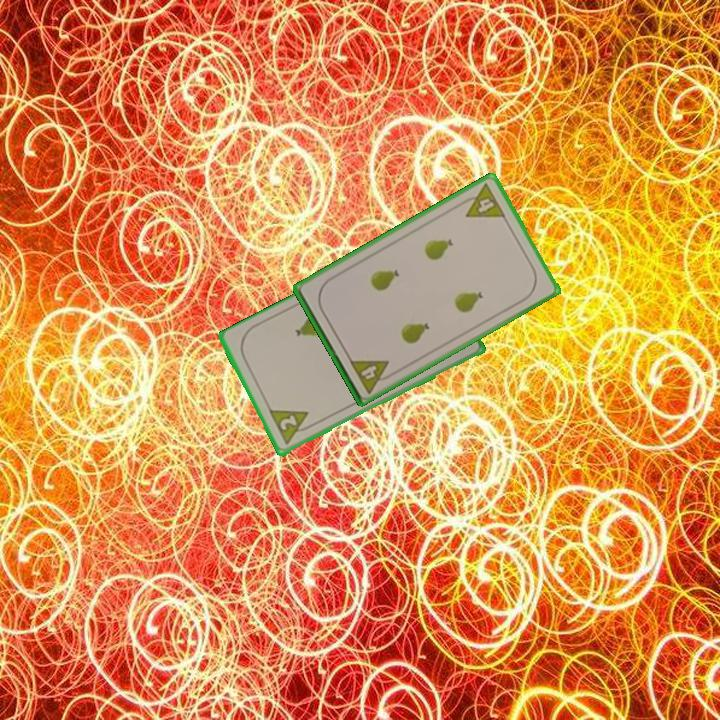2p: (265, 406, 317, 449)
4p: (456, 180, 508, 220), (346, 356, 397, 396)
